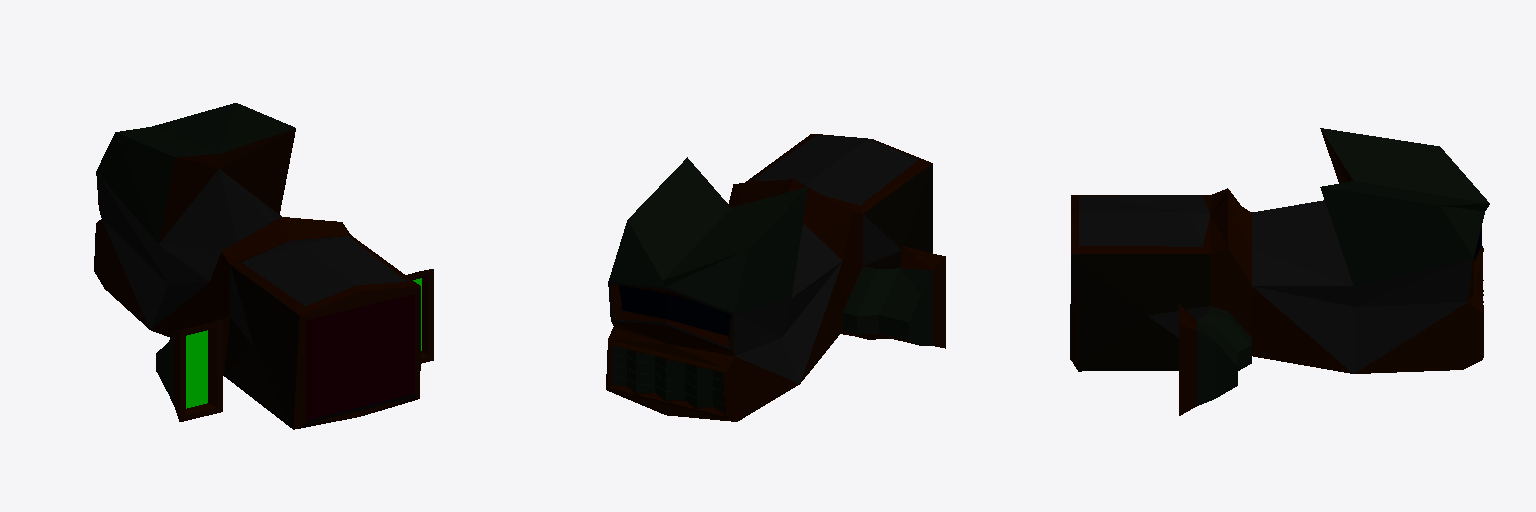
Rendered from Scavenger_Idle_1.obj.
3 renders of one model, left to right at view 1: azimuth 30°, elevation 25°; view 2: azimuth 150°, elevation 25°; view 3: azimuth 270°, elevation 25°, orthographic.
Parts seen in each view (by area): view 1: Cube.001; view 2: Cube.001; view 3: Cube.001.
Part boxes in pixels (left/top/right/bottom): Cube.001: left=94, top=103, right=433, bottom=429; Cube.001: left=606, top=134, right=945, bottom=421; Cube.001: left=1070, top=128, right=1489, bottom=415.
Size of the model in its own units: 8.44 by 6.26 by 12.11.